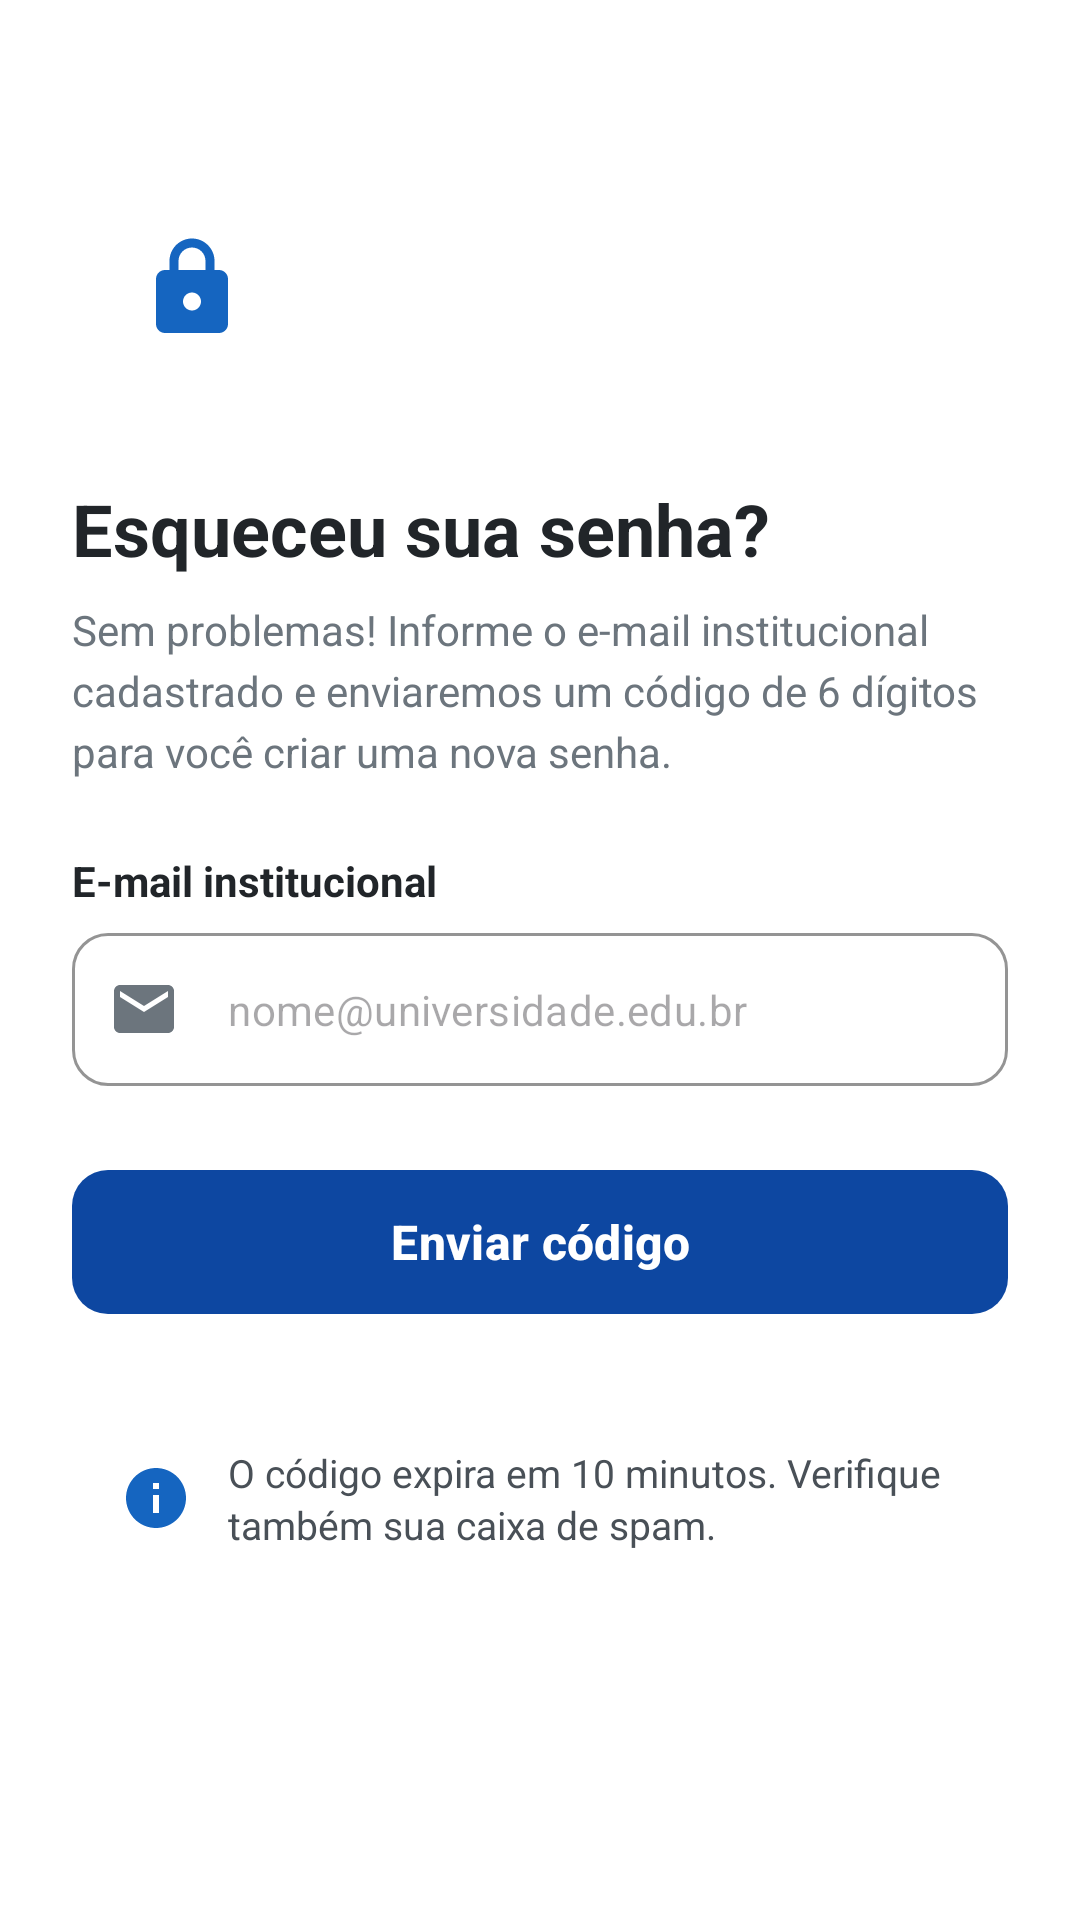

Where to tap for icons on this 1080 x 1920 app screen, as point (x, y):
Ícone de cadeado: point (192, 285)
Ícone de informação: point (156, 1498)
